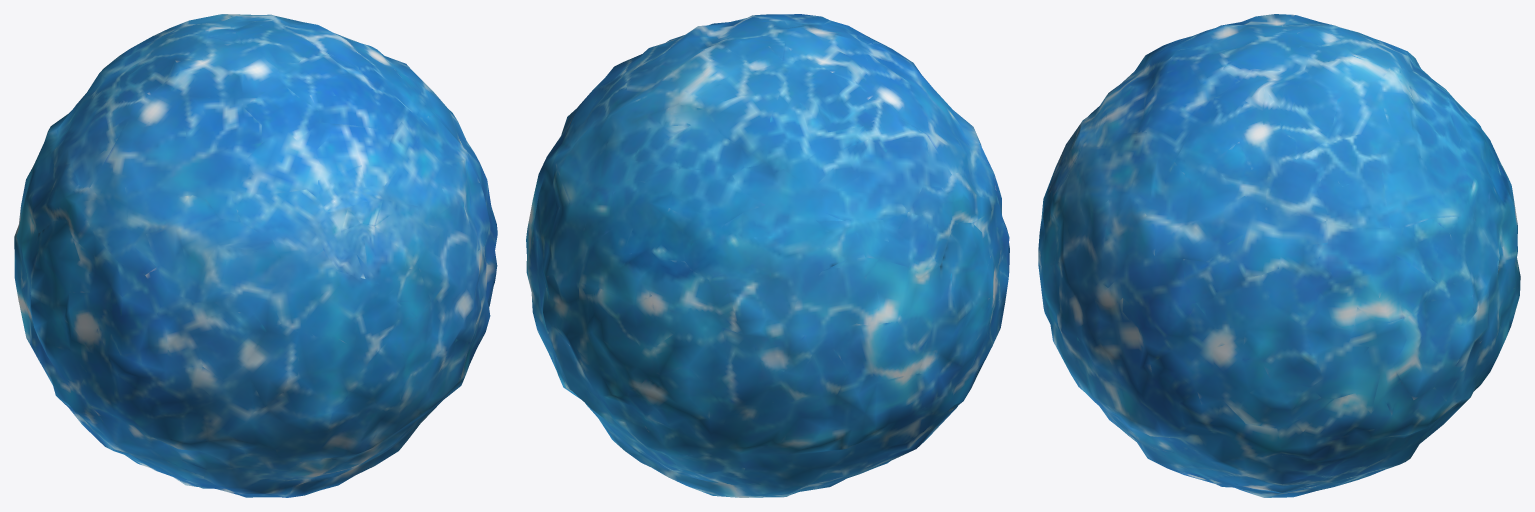
File: bolha_3d.obj
3 renders of one model, left to right at view 1: azimuth 30°, elevation 25°; view 2: azimuth 150°, elevation 25°; view 3: azimuth 270°, elevation 25°, orthographic.
Visible parts, largest first — view 1: Mesh_0; view 2: Mesh_0; view 3: Mesh_0.
Boxes of the visible parts, x1,y1,x2,y2 form: Mesh_0: [14, 14, 497, 497]; Mesh_0: [526, 14, 1009, 497]; Mesh_0: [1038, 14, 1520, 497].
Bounding box in the file's own units: 1.98 × 2 × 2.
Materials: 1 (1 with a texture image).
